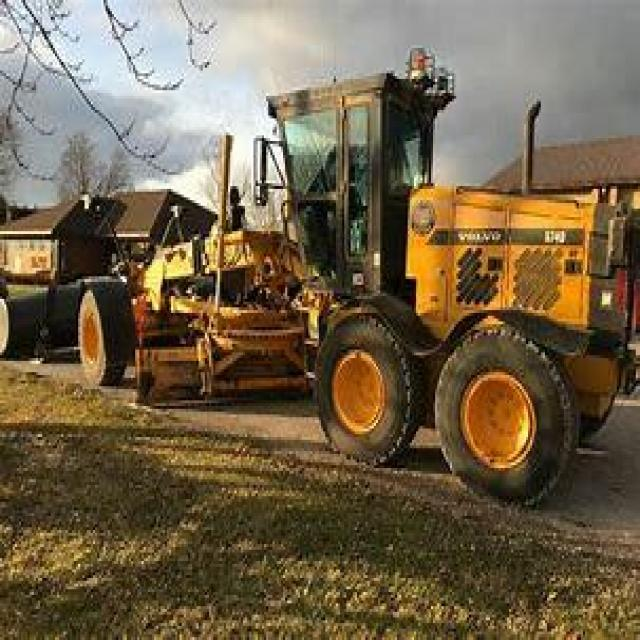Grader: (70, 62, 638, 508)
